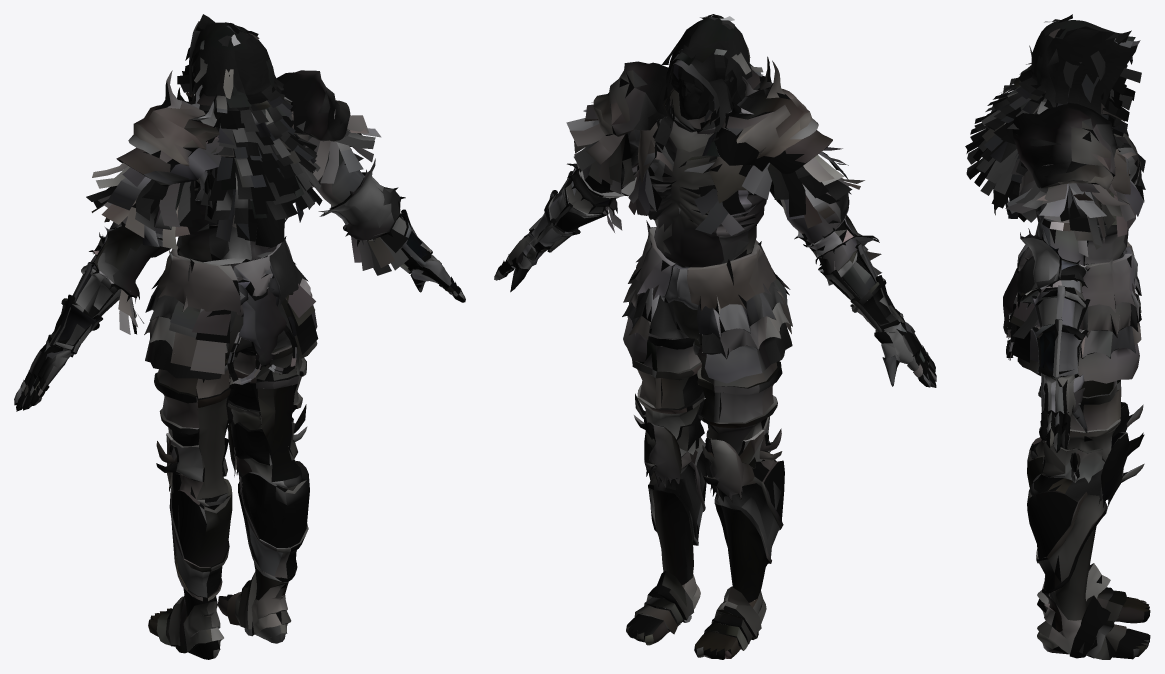
3 renders of one model, left to right at view 1: azimuth 30°, elevation 25°; view 2: azimuth 150°, elevation 25°; view 3: azimuth 270°, elevation 25°, orthographic.
Visible parts, largest first — view 1: mesh_0; view 2: mesh_0; view 3: mesh_0.
Part boxes in pixels (left/top/right/bottom): mesh_0: left=14, top=14, right=465, bottom=659; mesh_0: left=494, top=14, right=936, bottom=659; mesh_0: left=965, top=14, right=1150, bottom=659.
Bounding box in the file's own units: 56.14 × 74.25 × 20.23.
Materials: 1 (1 with a texture image).
